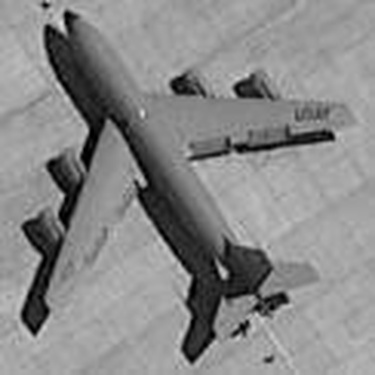airplane: (7, 3, 366, 362)
